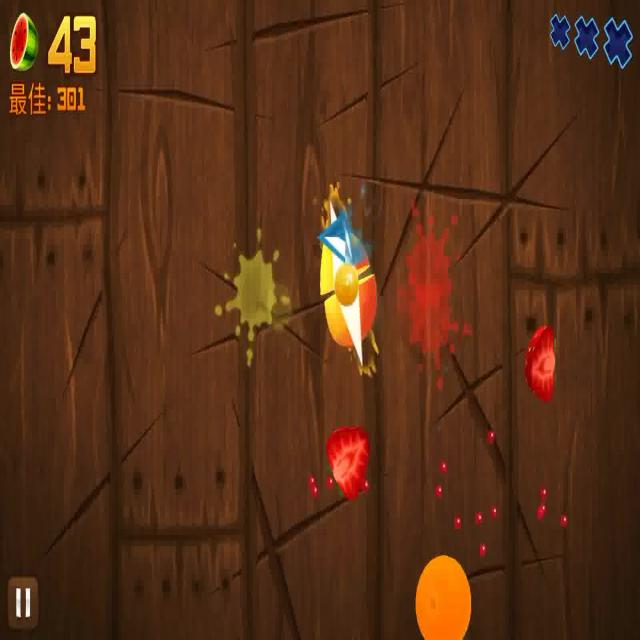fruit: (320, 223, 379, 352), (416, 555, 473, 640), (522, 322, 558, 403), (326, 427, 367, 496)
